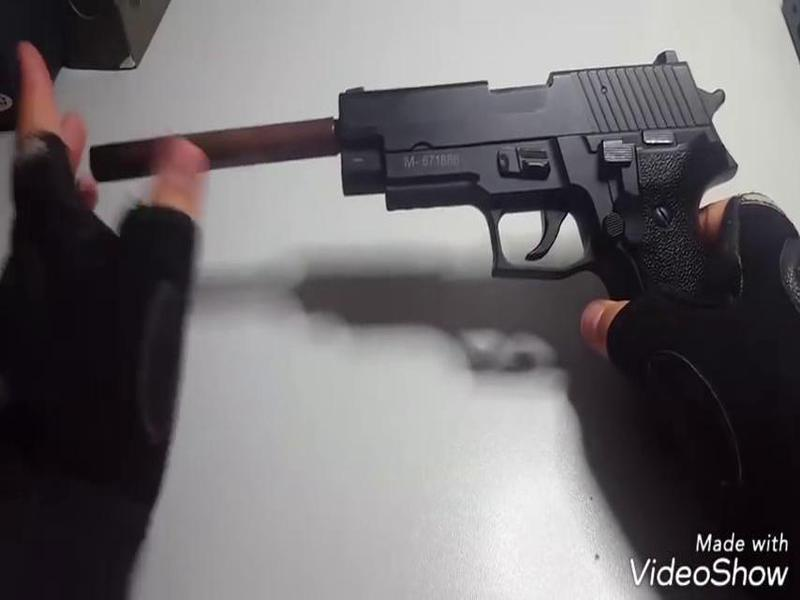Pistola: (337, 44, 759, 326)
